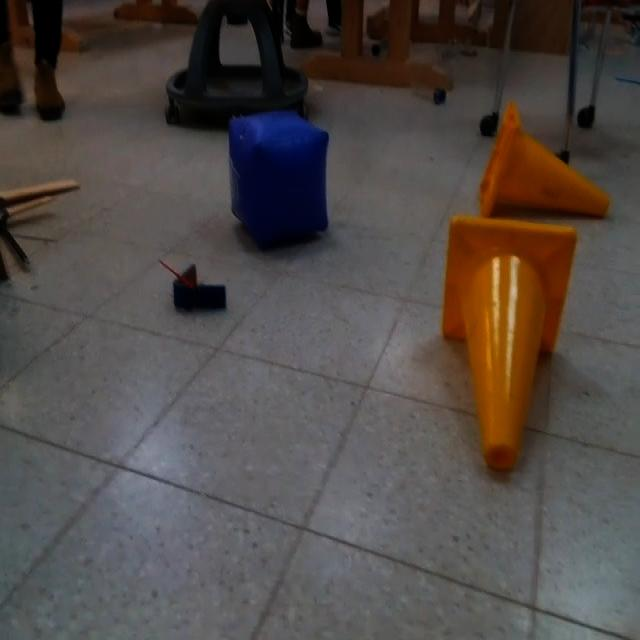cone: (444, 213, 580, 468), (480, 99, 612, 219)
cube: (230, 110, 332, 249)
